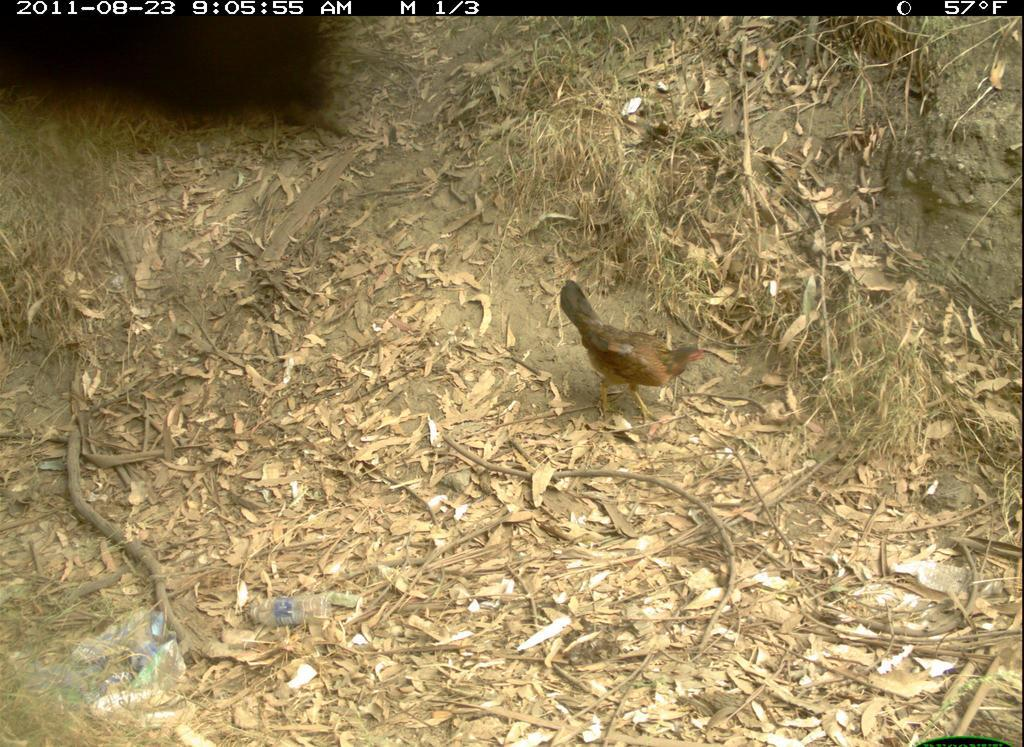bird: (551, 271, 716, 437)
